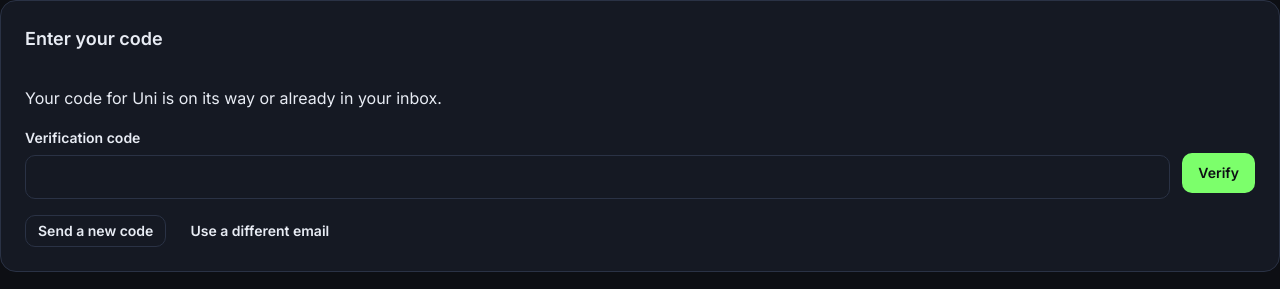
Scenario: VerifyEmail › resumes at the code step, and can switch to another email
The width and height of the screenshot is (1280, 289).
Check: the text "Your code for Uni is on its way or already in your inbox." is shown, box left=25, top=88, right=442, bottom=108
Check: the field labelled "Verification code" is shown, box left=25, top=155, right=1170, bottom=199
Click the button "Use a different email". click: (260,231)
box: left=178, top=215, right=341, bottom=247
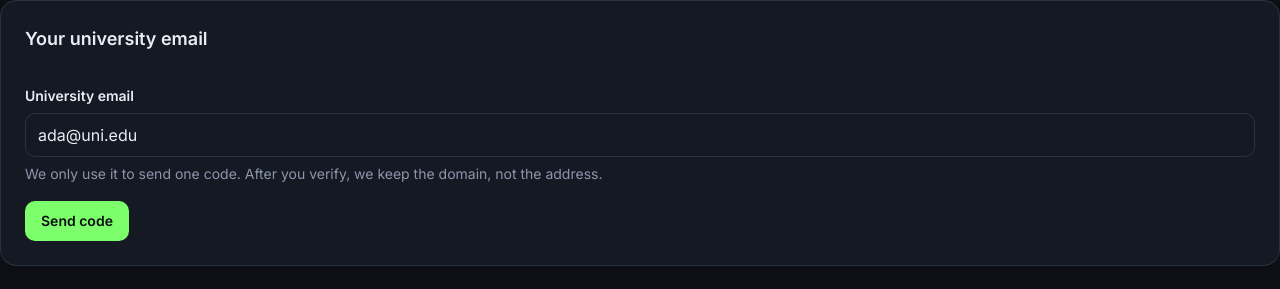
Check: the field labelled "University email" holds "ada@uni.edu", box left=25, top=113, right=1255, bottom=157
